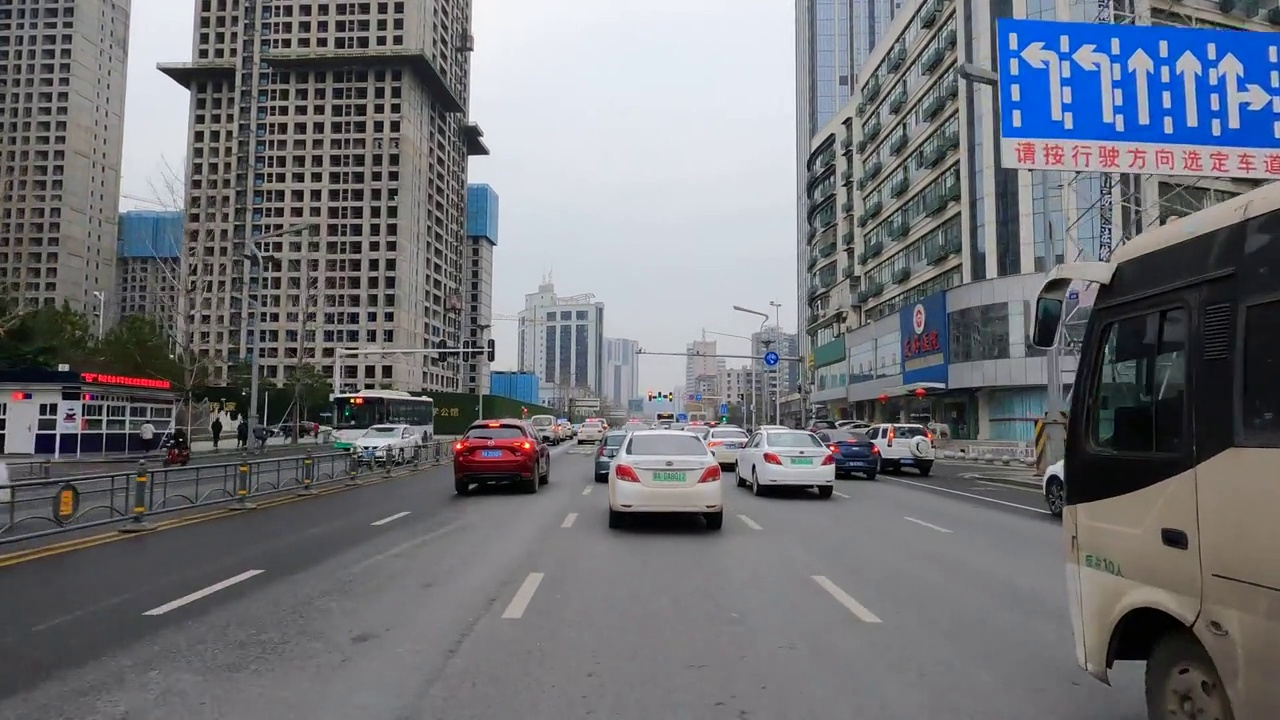lane: (1, 503, 235, 562), (145, 570, 265, 613), (811, 572, 886, 623), (499, 571, 546, 620), (908, 516, 953, 534), (371, 510, 410, 525), (738, 513, 763, 532), (559, 512, 579, 526)
